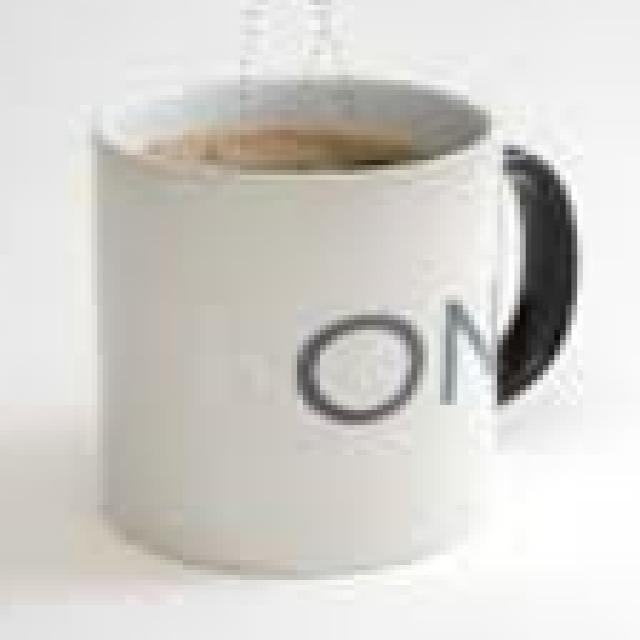taza: (93, 70, 586, 578)
